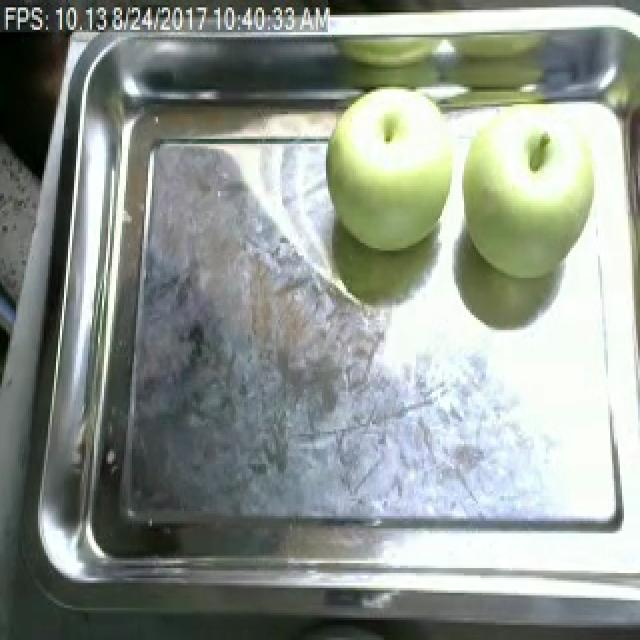50-_ripeness: (464, 85, 613, 298), (322, 78, 462, 282)
